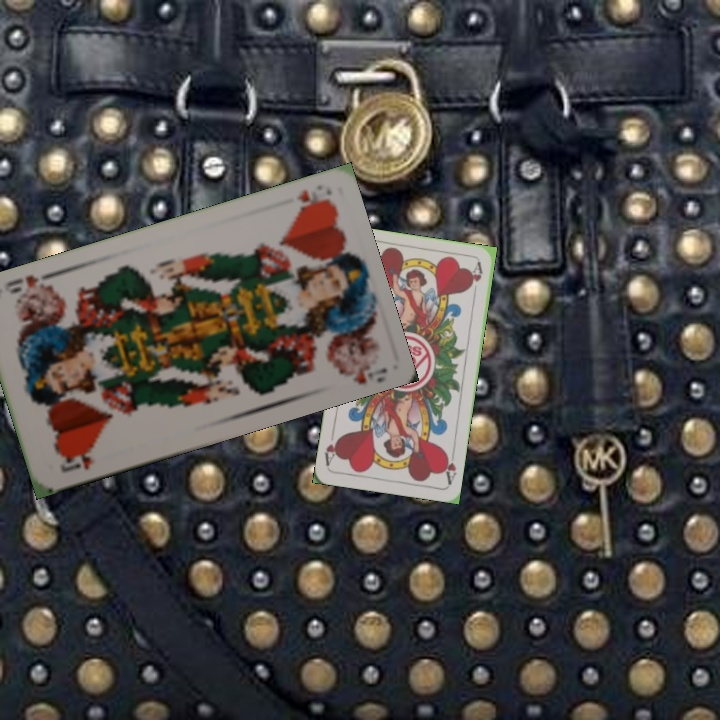HA: (439, 446, 459, 487)
HO: (56, 444, 98, 475), (292, 185, 333, 215)
